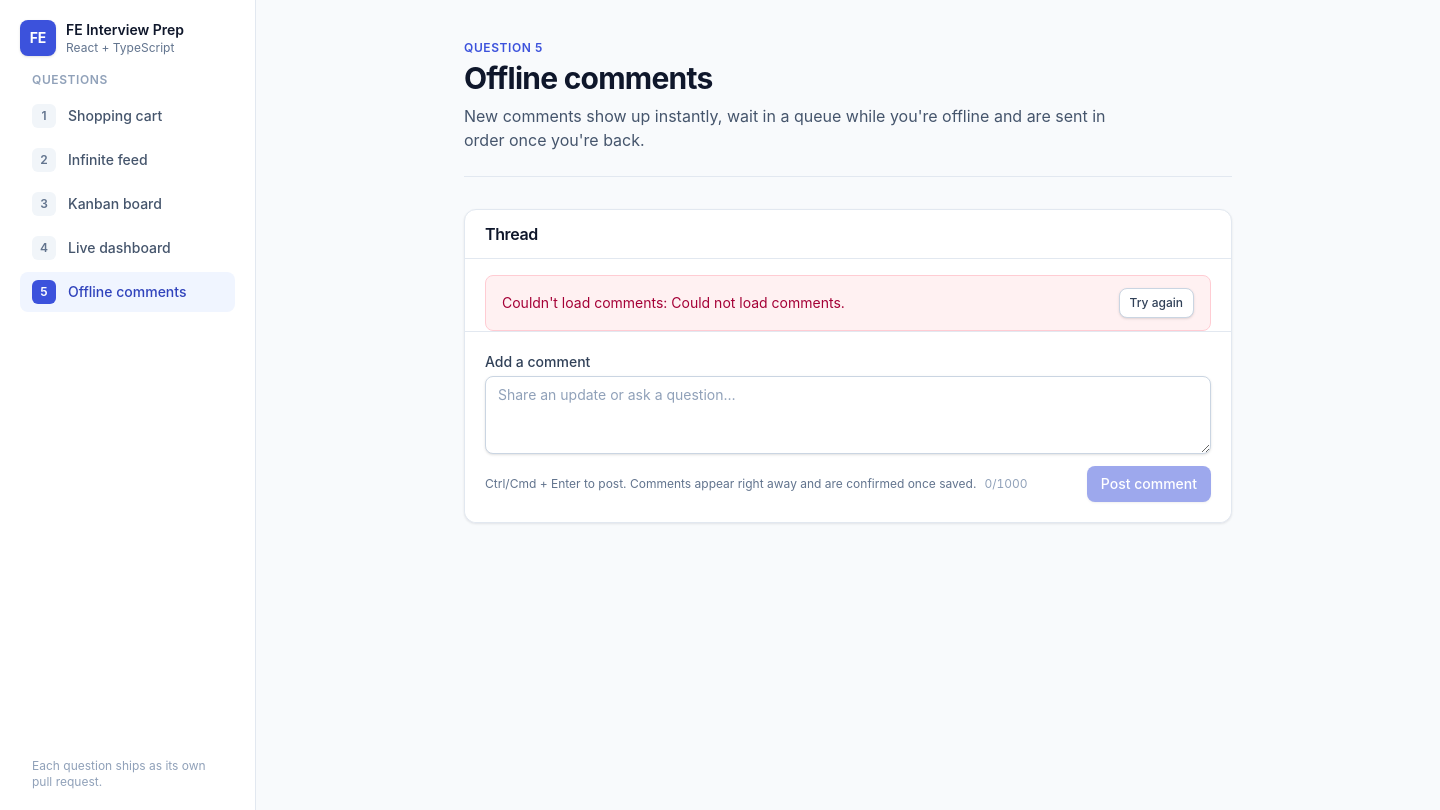
Test case: shows a load error with a retry
Expected: the message shows "Couldn't load comments", [502, 294, 671, 311]
Click the button "Try again" at point(1156, 303), box [1119, 288, 1194, 318]
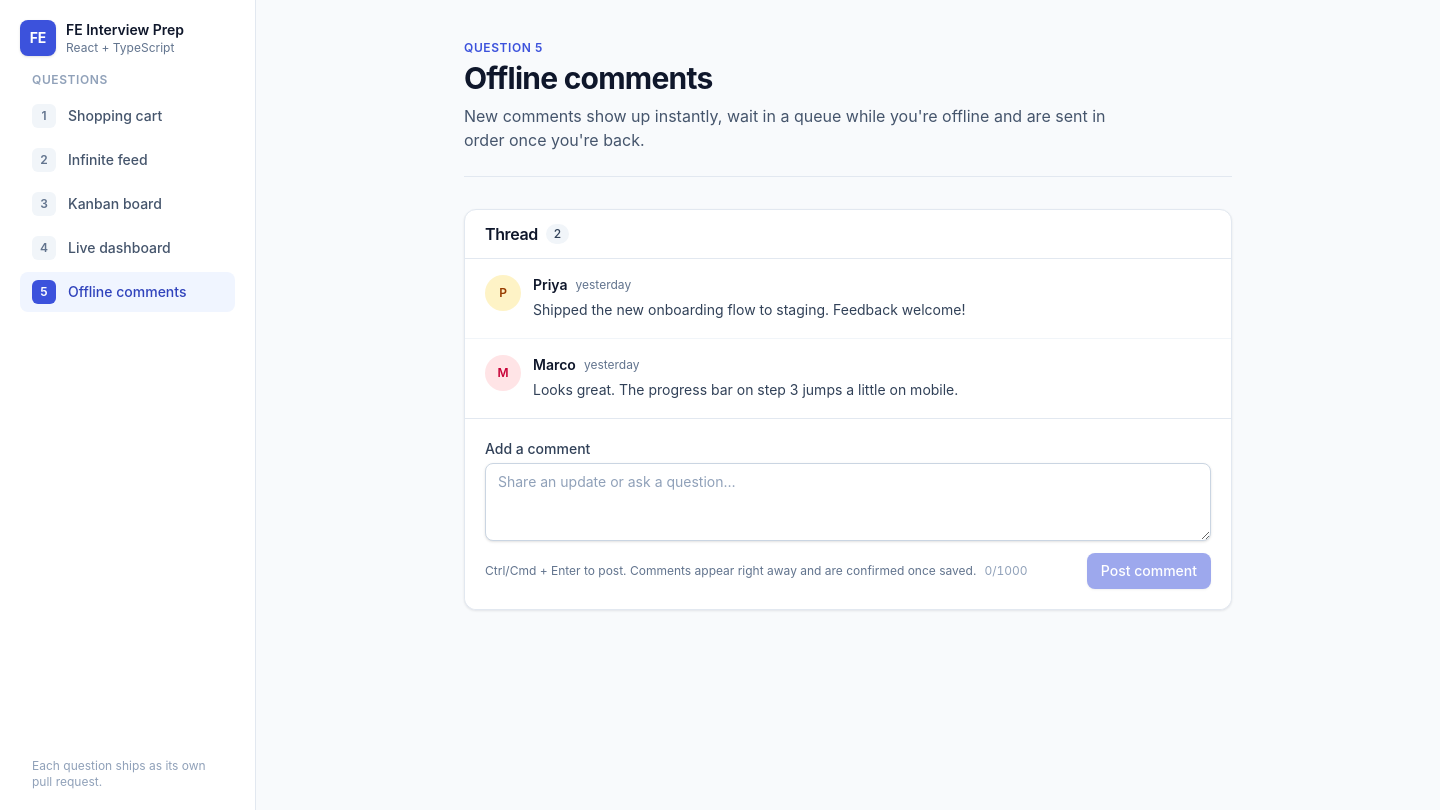
Expected: the text "Shipped the new onboarding flow" is shown, [533, 301, 965, 318]
